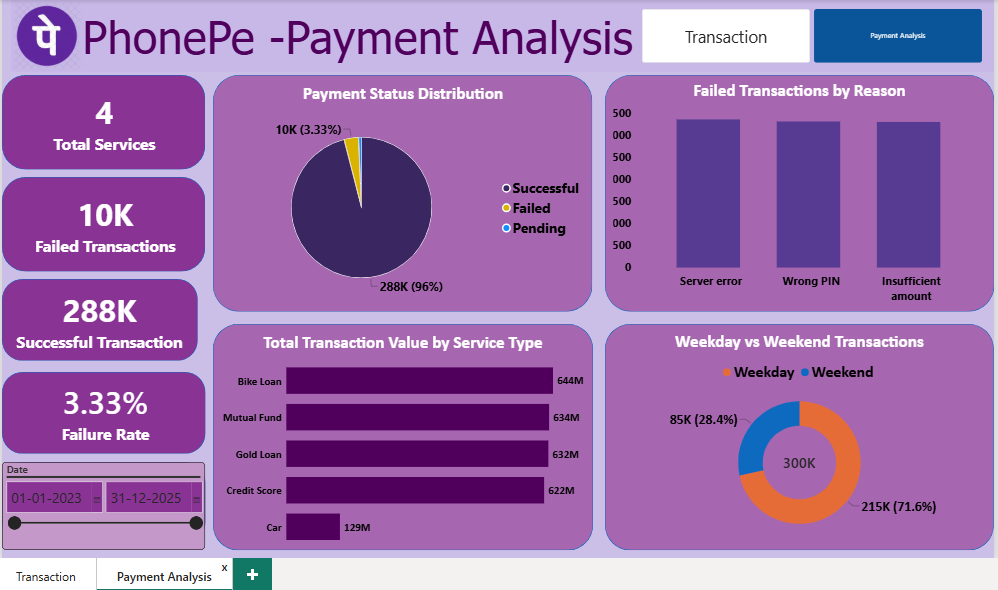

Layout of this report page (visuals, bound fields, positions):
{"tool":"powerbi","page":{"name":"SERVICE & PAYMENT ANALYSIS","canvas":[1920,1080],"ordinal":1},"visuals":[{"type":"textbox","box":[0,0,1919.8,157.3],"z":0},{"type":"shape","box":[0,170.3,392.9,181.9],"z":1000},{"type":"shape","box":[0,389,393.8,207.6],"z":2000},{"type":"shape","box":[0,615.5,394.8,193.5],"z":3000},{"type":"shape","box":[0,849.7,392.9,193.5],"z":4000},{"type":"card","fields":{"Values":["All_Measures.Total Users"]},"box":[0,172.3,394.8,180],"z":5000},{"type":"card","fields":{"Values":["All_Measures.Total Services"]},"box":[13.5,389,365.8,207.1],"z":6000},{"type":"card","fields":{"Values":["All_Measures.Failed Transactions"]},"box":[0,615.5,394.8,193.5],"z":7000},{"type":"card","fields":{"Values":["All_Measures.Success Rate"]},"box":[0,849.7,379.4,193.5],"z":8000},{"type":"shape","box":[410.3,172.2,735.6,482.6],"z":9000},{"type":"shape","box":[1165,172.2,754.7,482.6],"z":10000},{"type":"shape","box":[410.8,673,735,408.8],"z":11000},{"type":"pageNavigator","box":[1265.8,29,629,83.2],"z":12000},{"type":"pieChart","title":"Payment Status Distribution","fields":{"Category":["All_Transactions.Payment_Status"],"Y":["All_Measures.Total Transaction"]},"box":[410.1,169.2,735.7,484.5],"z":13000},{"type":"columnChart","fields":{"Category":["All_Transactions.Reason"],"Y":["All_Measures.Failed Transactions"]},"box":[1166.5,171.4,753.5,501.7],"z":14000},{"type":"shape","box":[1166.5,671,753.5,408.8],"z":15000},{"type":"donutChart","fields":{"Category":["Date Table.IsWeekend"],"Y":["All_Measures.Total Transaction"]},"box":[1167.1,673.5,752.9,406.5],"z":16000},{"type":"clusteredBarChart","fields":{"Category":["All_Transactions.Service Type"],"Y":["All_Measures.Total Transaction Value"]},"box":[408.8,676.4,734.2,404.5],"z":17000}]}

Visuals, with their boxes on the page's 1920x1080 design canvas (x1, y1, x2, y2). These are canvas units, not pixel positions in the 998x590 screenshot, which may show the page scaled, cropped or inside an application window:
textbox: 0, 0, 1920, 157
shape: 0, 170, 393, 352
shape: 0, 389, 394, 597
shape: 0, 616, 395, 809
shape: 0, 850, 393, 1043
card - All_Measures.Total Users: 0, 172, 395, 352
card - All_Measures.Total Services: 14, 389, 379, 596
card - All_Measures.Failed Transactions: 0, 616, 395, 809
card - All_Measures.Success Rate: 0, 850, 379, 1043
shape: 410, 172, 1146, 655
shape: 1165, 172, 1920, 655
shape: 411, 673, 1146, 1082
pageNavigator: 1266, 29, 1895, 112
"Payment Status Distribution" pieChart: 410, 169, 1146, 654
columnChart - All_Transactions.Reason x All_Measures.Failed Transactions: 1166, 171, 1920, 673
shape: 1166, 671, 1920, 1080
donutChart - Date Table.IsWeekend x All_Measures.Total Transaction: 1167, 674, 1920, 1080
clusteredBarChart - All_Transactions.Service Type x All_Measures.Total Transaction Value: 409, 676, 1143, 1081
